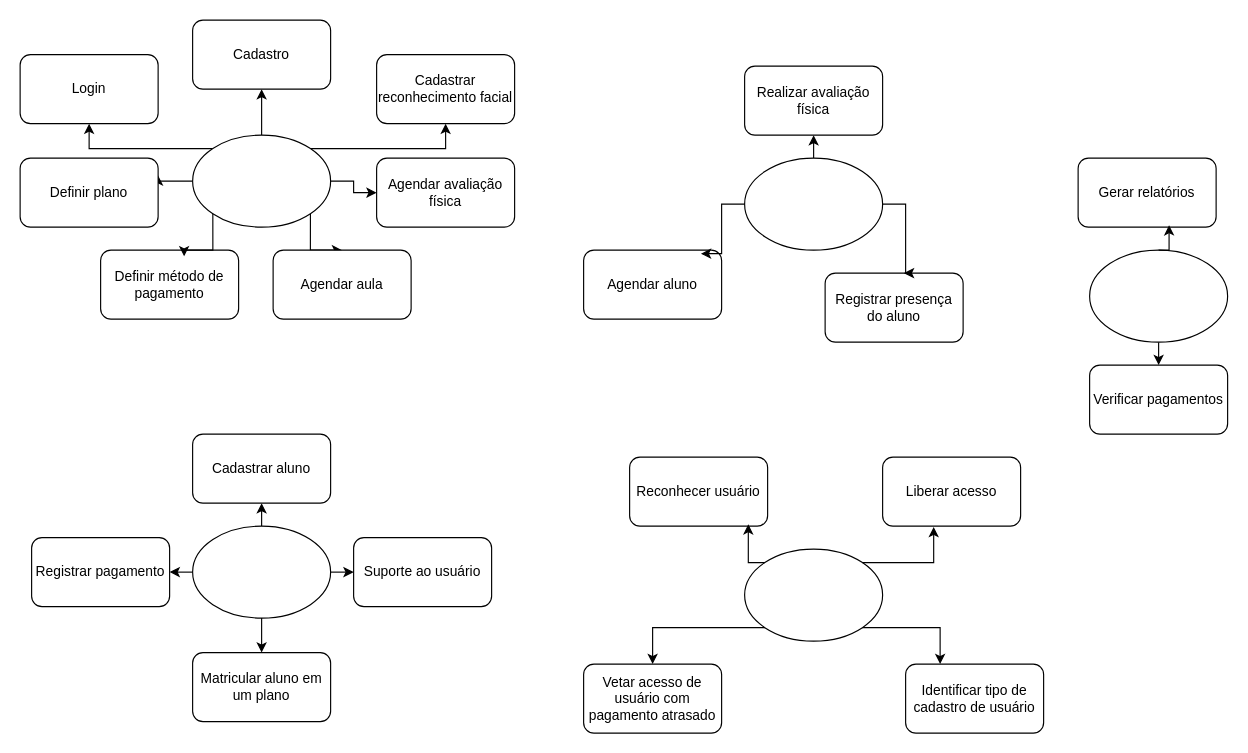
Image size: 1248x753. Some labels were removed from this diagram. The shapes that lost their labels are listed below. From the top down, each one's centre as x and y in pixels, then its label:
At (261,180): "Aluno".
At (813,203): "Instrutor".
At (1158,295): "Gerente".
At (261,571): "Recepcionista".
At (813,594): "Catraca".
